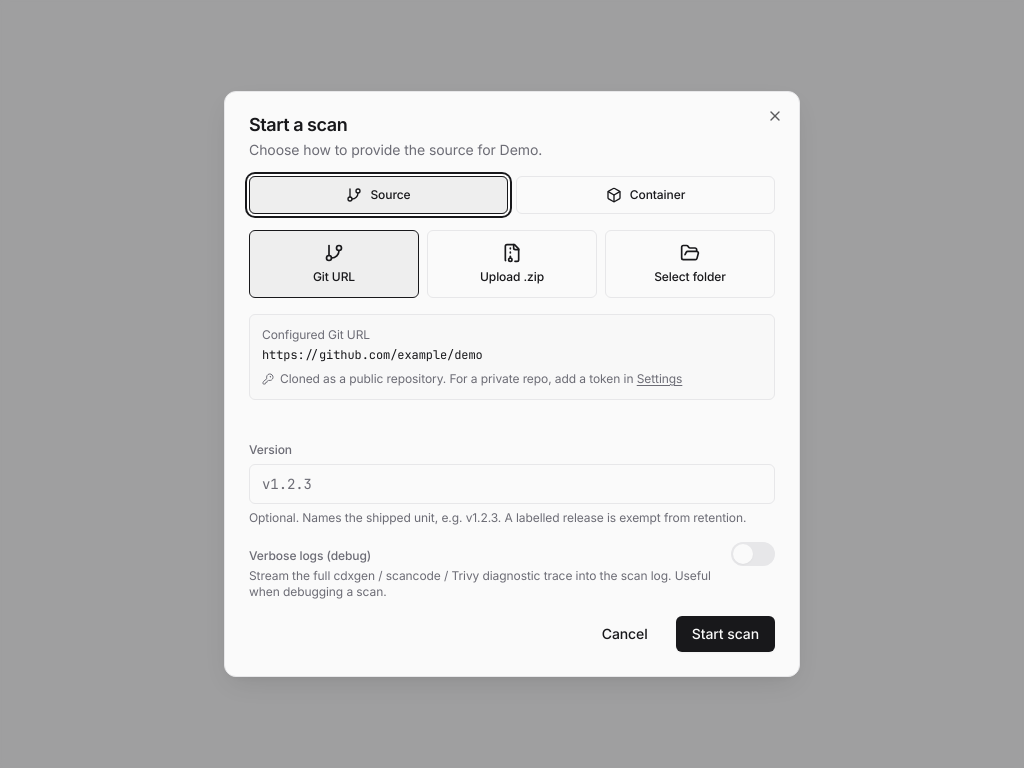
SourceSelectDialog › flags the image_ref field as invalid after it is blurred empty
The width and height of the screenshot is (1024, 768).
Click the radio button with test id "scan-kind-container" at (646, 195), box [516,176,775,214]
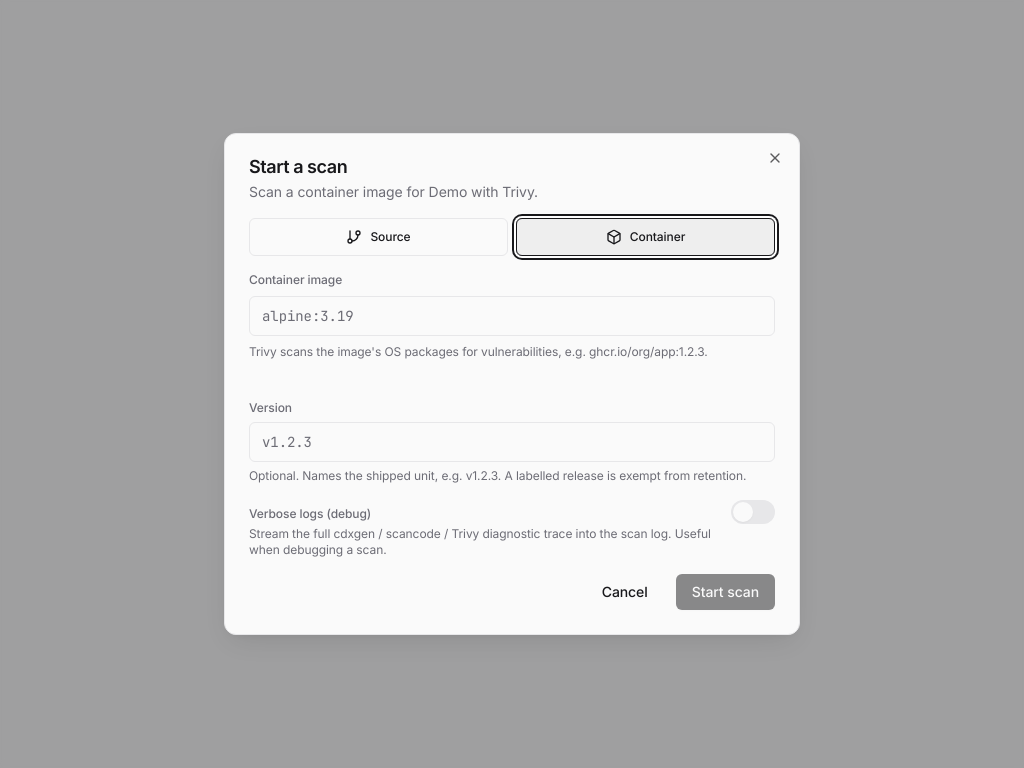
Click the field with test id "scan-image-ref-input" at (512, 316), box [249,296,775,336]
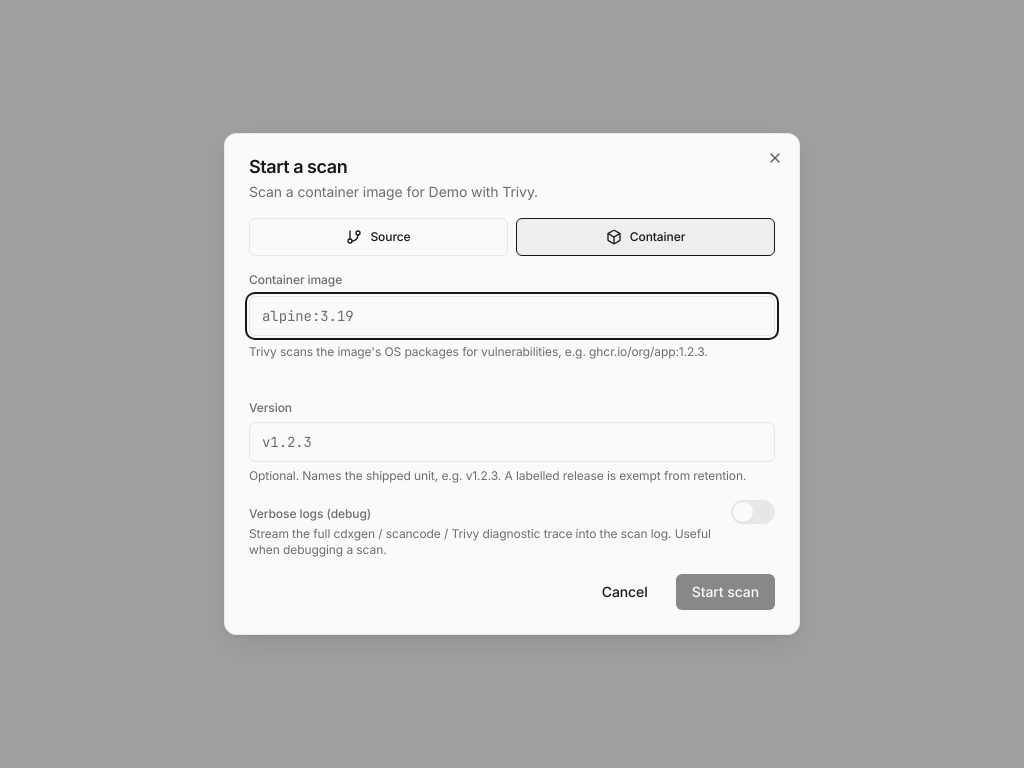
Press Tab
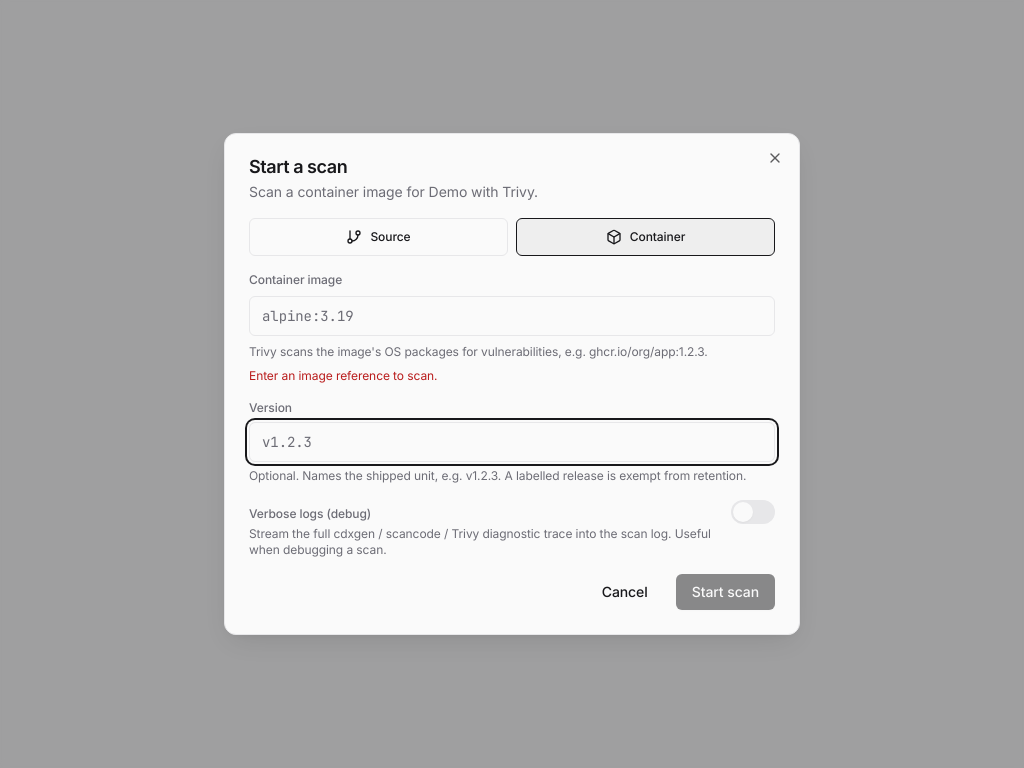
Expected: the text "Enter an image reference to scan." is shown, [249,368,438,383]
